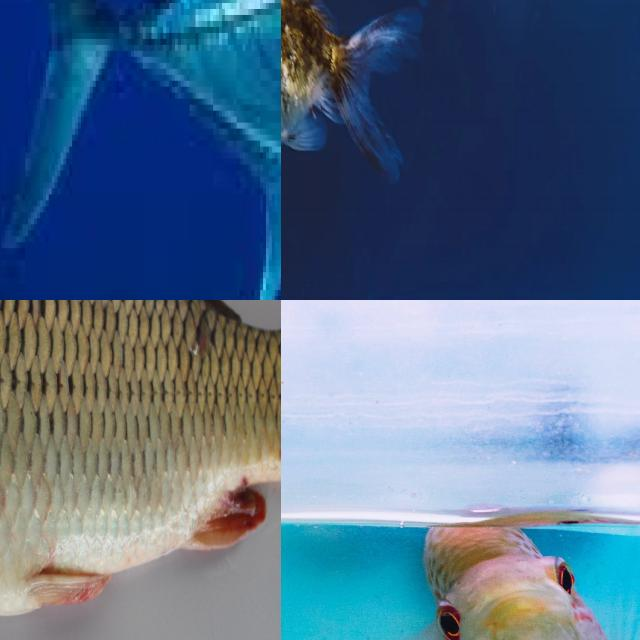fish: (0, 300, 281, 640), (281, 0, 640, 265), (281, 397, 640, 640), (0, 0, 281, 300)
